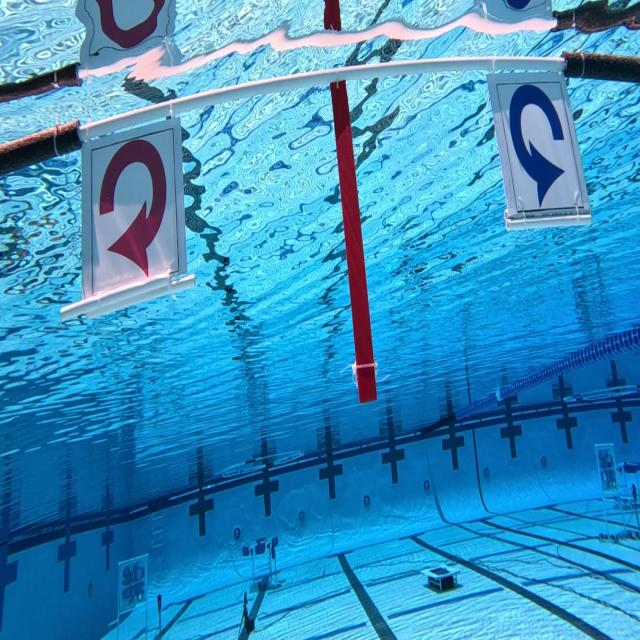blue_side: (488, 61, 596, 223)
red_side: (75, 125, 188, 307)
